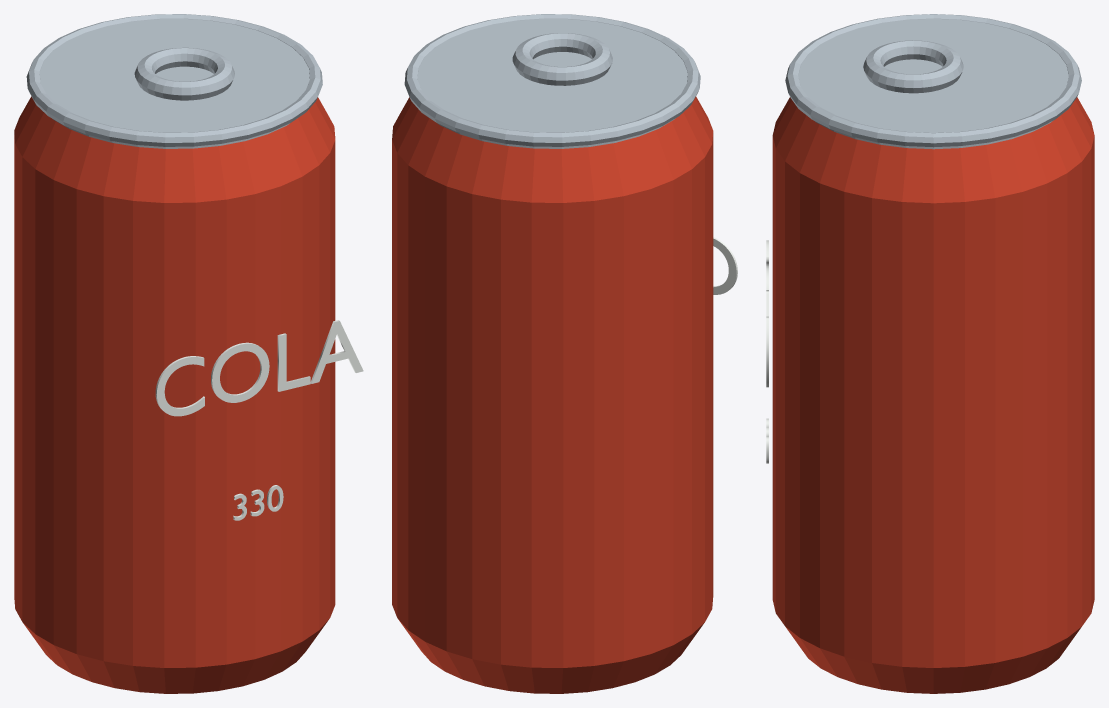
File: LataCola.fbx
The picture shows the model from 3 angles, left to right: view 1: azimuth 30°, elevation 25°; view 2: azimuth 150°, elevation 25°; view 3: azimuth 270°, elevation 25°; orthographic projection.
Visible parts, largest first — view 1: Lata, Tapa.001, Borde_superior, Texto_COLA, Anilla, Texto_330; view 2: Lata, Tapa.001, Borde_superior, Anilla, Texto_COLA; view 3: Lata, Tapa.001, Borde_superior, Anilla.
Part boxes in pixels (box(x1,y1,x2,y2)): Lata: box(14, 96, 335, 693); Tapa.001: box(39, 19, 309, 148); Borde_superior: box(26, 14, 322, 146); Texto_COLA: box(155, 320, 363, 416); Anilla: box(134, 47, 234, 100); Texto_330: box(233, 485, 283, 520); Lata: box(392, 96, 713, 693); Tapa.001: box(417, 19, 687, 148); Borde_superior: box(404, 14, 700, 146); Anilla: box(512, 33, 612, 85); Texto_COLA: box(713, 237, 737, 294); Lata: box(772, 97, 1094, 693); Tapa.001: box(798, 19, 1068, 149); Borde_superior: box(785, 14, 1081, 147); Anilla: box(863, 40, 963, 93).
Bounding box in the file's own units: 6.4 × 12.7 × 6.53.
